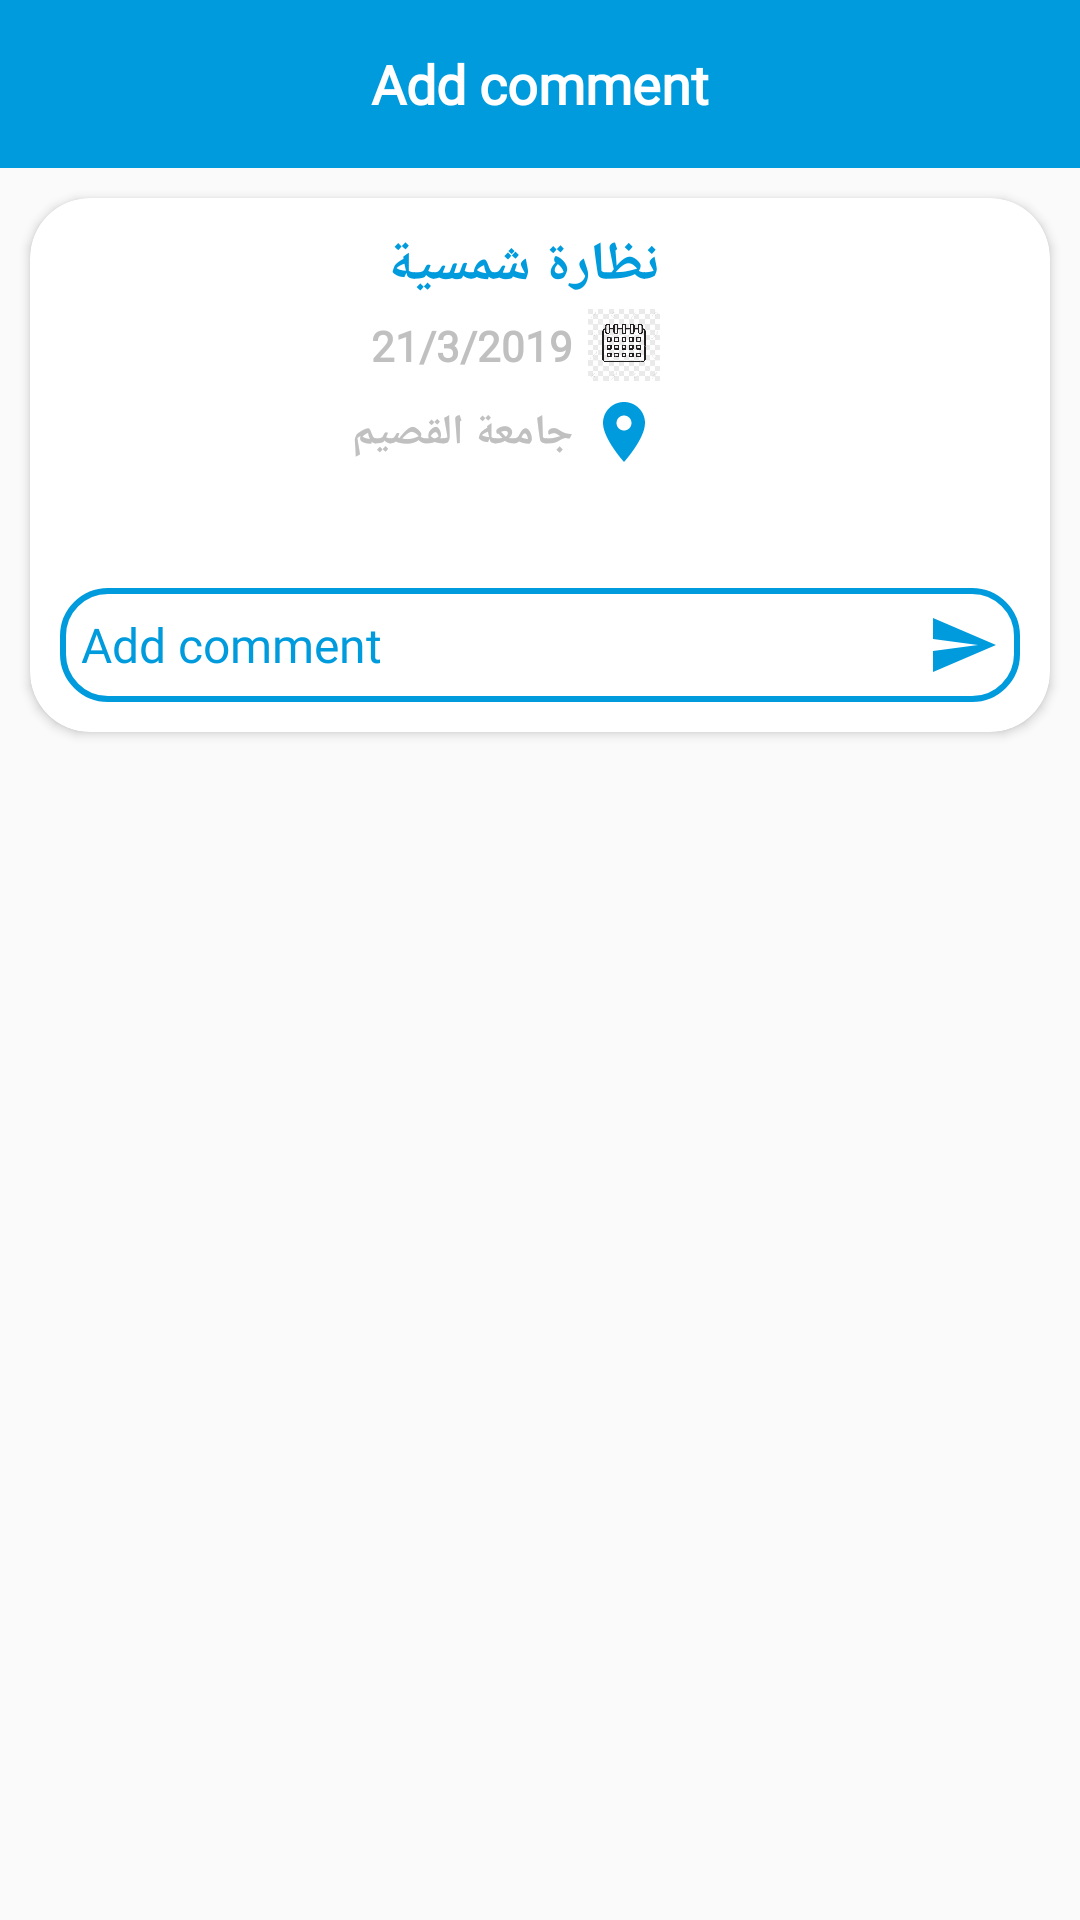

Screen size 1080w x 1920h. Icon name, then its center in pixels as (x=x, y=y):
calender: (x=624, y=345)
location: (x=624, y=432)
send: (x=964, y=645)
